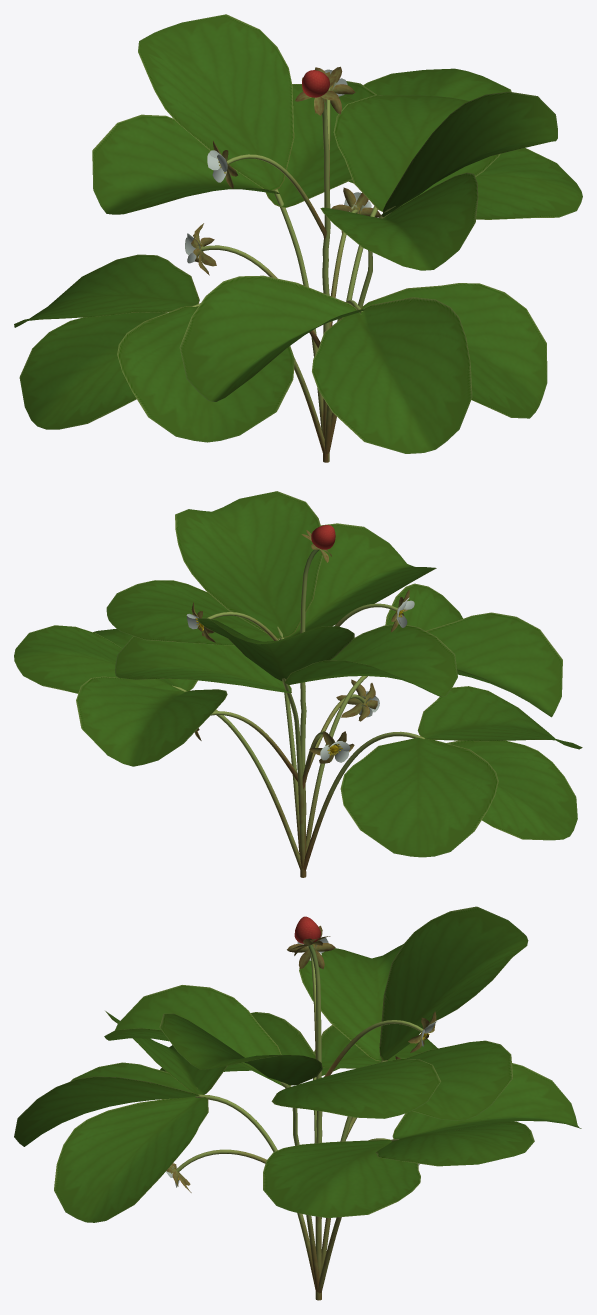
Rendered from strawberry_less.obj.
The picture shows the model from 3 angles, top to bottom: view 1: azimuth 30°, elevation 25°; view 2: azimuth 150°, elevation 25°; view 3: azimuth 270°, elevation 25°; orthographic projection. The views are drawn at different scales.
Visible parts, largest first — view 1: strawberry_less leaf, stam strawberry_less, strawberry_less rim_leaf, strawberry_less flower_leaf, strawberry_less strawberry; view 2: strawberry_less leaf, stam strawberry_less, strawberry_less rim_leaf, strawberry_less flower_leaf, strawberry_less strawberry; view 3: strawberry_less leaf, stam strawberry_less, strawberry_less rim_leaf, strawberry_less strawberry.
Boxes of the visible parts, x1,y1,x2,y2 form: strawberry_less leaf: (14, 14, 582, 453); stam strawberry_less: (192, 87, 395, 462); strawberry_less rim_leaf: (191, 66, 380, 275); strawberry_less flower_leaf: (185, 69, 371, 263); strawberry_less strawberry: (302, 70, 329, 97); strawberry_less leaf: (14, 491, 582, 857); stam strawberry_less: (172, 549, 424, 877); strawberry_less rim_leaf: (191, 530, 409, 763); strawberry_less flower_leaf: (186, 597, 414, 762); strawberry_less strawberry: (311, 525, 335, 549); strawberry_less leaf: (14, 906, 581, 1222); stam strawberry_less: (176, 945, 423, 1300); strawberry_less rim_leaf: (166, 925, 436, 1192); strawberry_less strawberry: (294, 916, 320, 943).
Size of the model in its own units: 15.05 by 10.4 by 14.42.
1 material, 1 textured.
